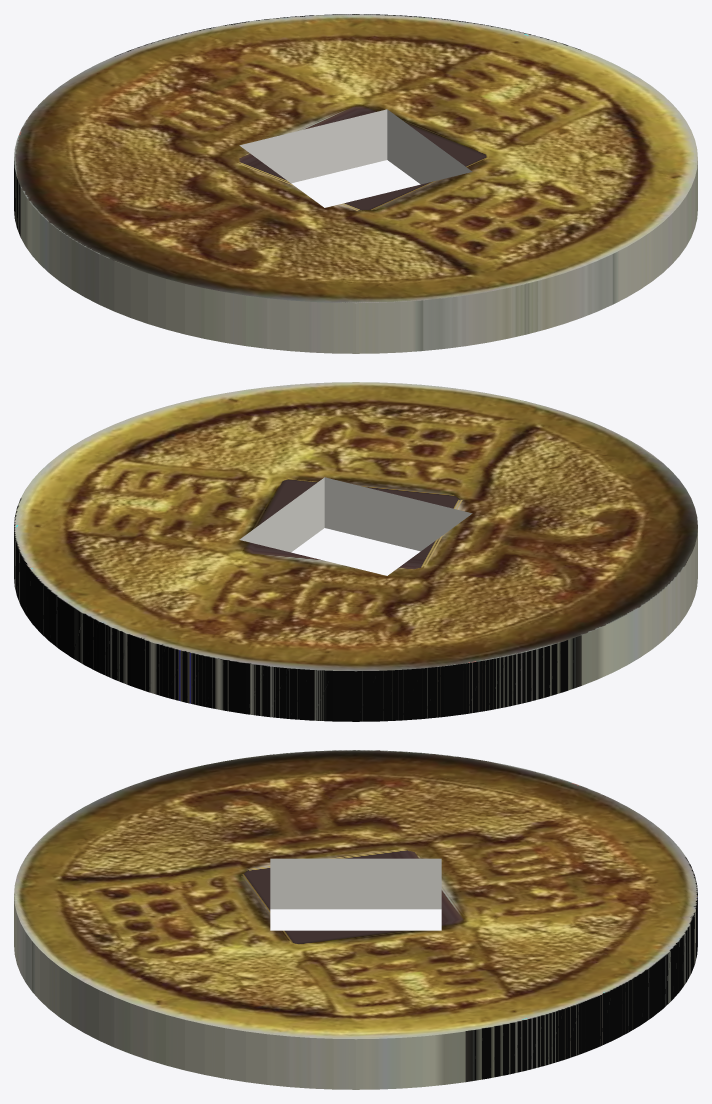
Rendered from iching_coin.glb.
3 renders of one model, top to bottom at view 1: azimuth 30°, elevation 25°; view 2: azimuth 150°, elevation 25°; view 3: azimuth 270°, elevation 25°, orthographic.
Parts seen in each view (by area): view 1: iching_coin_2; view 2: iching_coin_2; view 3: iching_coin_2.
Part boxes in pixels (x1,y1,x2,y2): iching_coin_2: (14,14,697,353); iching_coin_2: (14,382,697,721); iching_coin_2: (14,750,697,1089).
Size of the model in its own units: 0.22 by 0.018 by 0.22.
2 materials, 1 textured.
